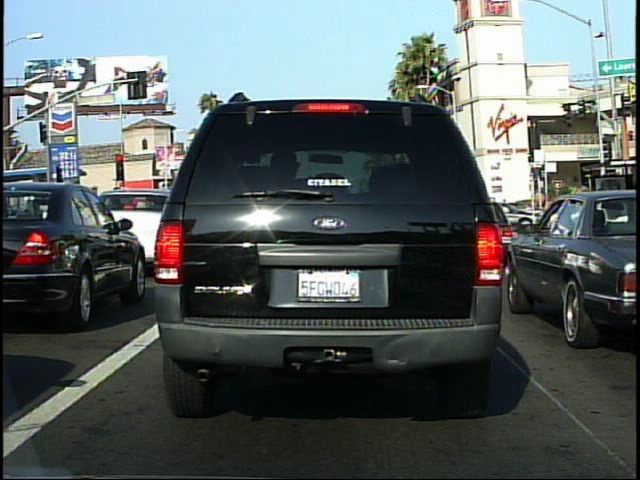person: (590, 183, 612, 246), (499, 196, 514, 226)
